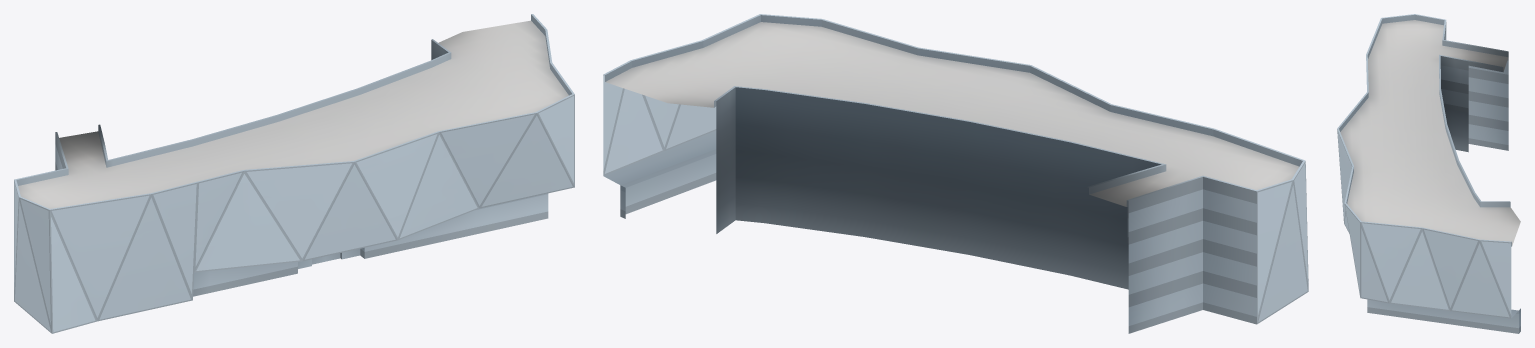
The picture shows the model from 3 angles, left to right: view 1: azimuth 30°, elevation 25°; view 2: azimuth 150°, elevation 25°; view 3: azimuth 270°, elevation 25°; orthographic projection. The views are drawn at different scales.
Visible parts, largest first — view 1: 70030076432380265; view 2: 70030076432380265; view 3: 70030076432380265.
Boxes of the visible parts, x1,y1,x2,y2 form: 70030076432380265: [14, 14, 574, 333]; 70030076432380265: [603, 14, 1308, 333]; 70030076432380265: [1337, 14, 1520, 333].
Size of the model in its own units: 93.99 by 19.1 by 31.95.
1 material, 1 textured.
